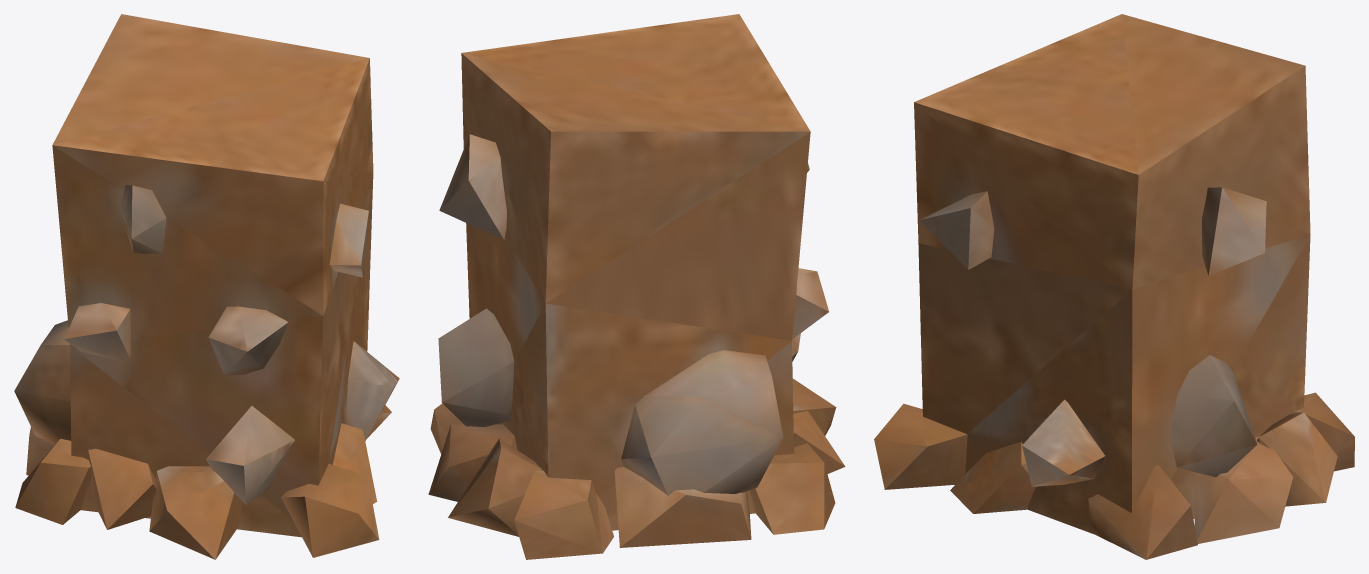
The model's file is bloque_tierra_1_250.glb.
3 views of the same model, side by side, from view 1: azimuth 30°, elevation 25°; view 2: azimuth 150°, elevation 25°; view 3: azimuth 270°, elevation 25° (orthographic). The views are drawn at different scales.
Parts seen in each view (by area): view 1: bloque_tierra_1_malla; view 2: bloque_tierra_1_malla; view 3: bloque_tierra_1_malla.
Part boxes in pixels (left/top/right/bottom): bloque_tierra_1_malla: left=14, top=14, right=399, bottom=559; bloque_tierra_1_malla: left=428, top=14, right=845, bottom=559; bloque_tierra_1_malla: left=874, top=14, right=1354, bottom=559.
Size of the model in its own units: 0.217 by 0.2175 by 0.2343.
1 material, 1 textured.
